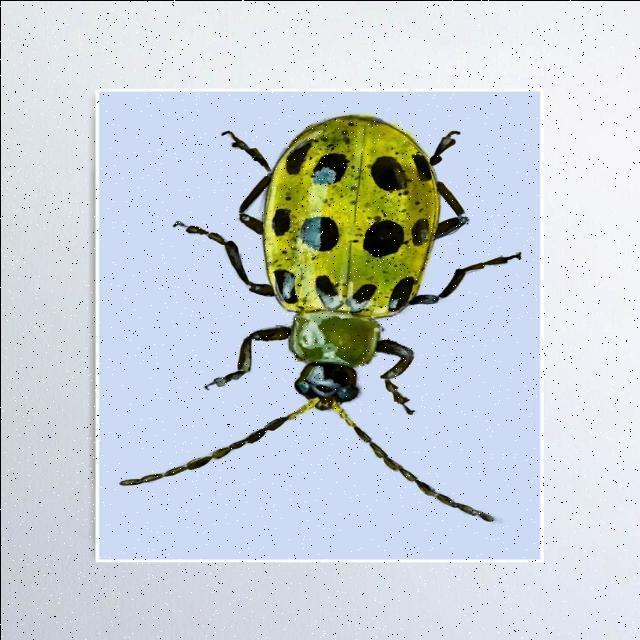gusano_verde: (136, 98, 514, 531)
